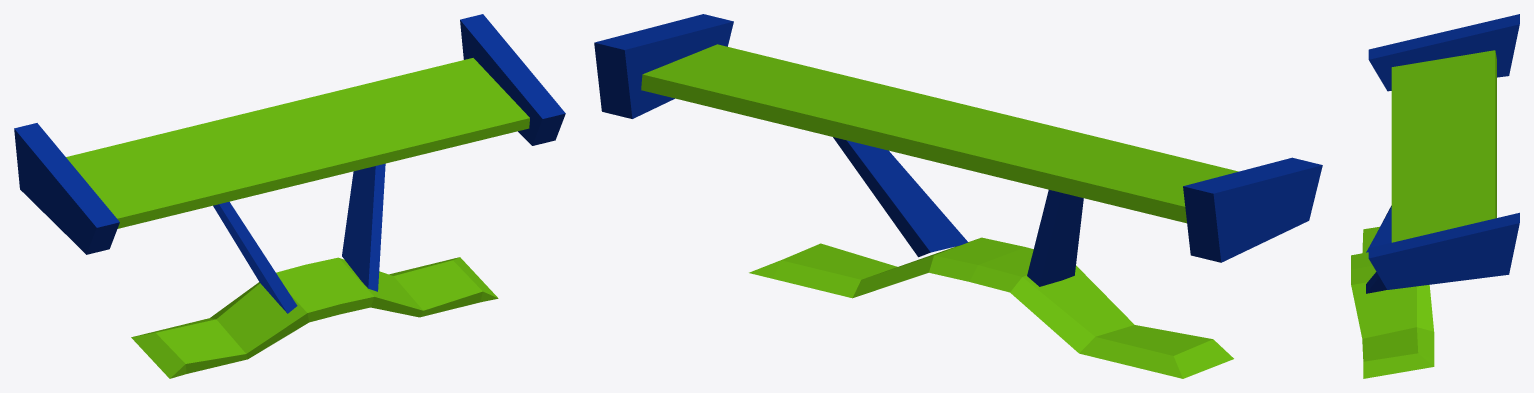
The model's file is LuxSpoiler00C05.gltf.
3 views of the same model, side by side, from view 1: azimuth 30°, elevation 25°; view 2: azimuth 150°, elevation 25°; view 3: azimuth 270°, elevation 25° (orthographic). The views are drawn at different scales.
Parts seen in each view (by area): view 1: LuxSpoiler00C05; view 2: LuxSpoiler00C05; view 3: LuxSpoiler00C05.
Part boxes in pixels (<box>): LuxSpoiler00C05: <box>14,14,565,378</box>; LuxSpoiler00C05: <box>594,14,1322,378</box>; LuxSpoiler00C05: <box>1351,14,1519,378</box>.
Bounding box in the file's own units: 0.1729 × 0.0722 × 0.059.
Materials: 1 (1 with a texture image).
